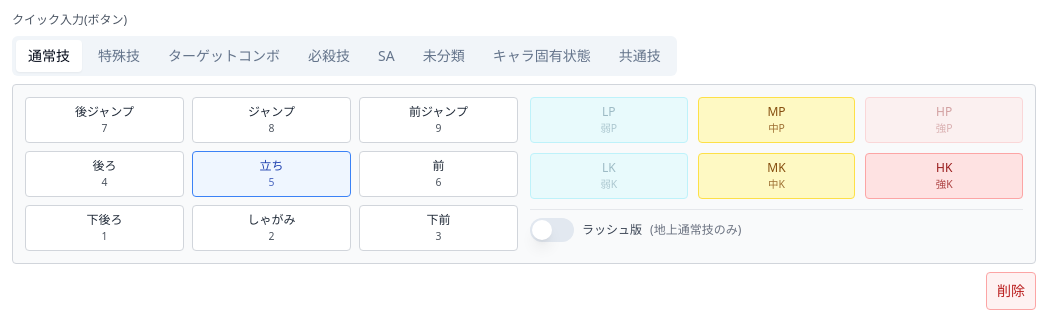
★★VirtualController — setup_only の配線(M31-06) › context="combo"（コンボ登録） › ★必殺技タブ: setup_only のファミリーが並ばない
Click the tab with test id "recipe-tab-special": (329, 56) [296,40,362,72]
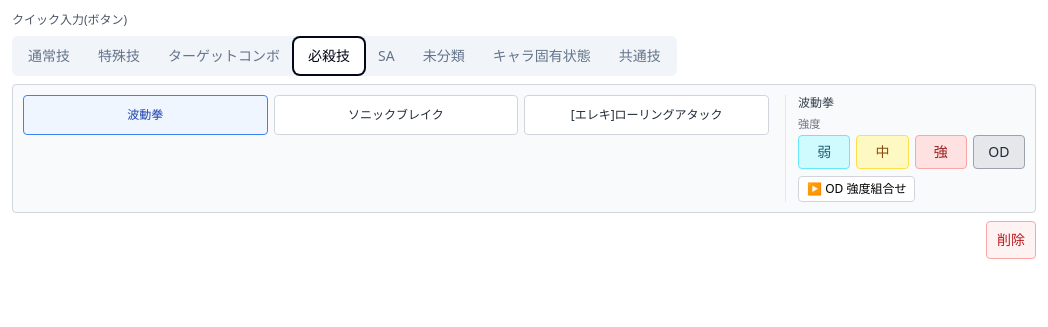
Expected: the button with test id "recipe-special-family-hadoken" is shown, [23,95,268,135]
